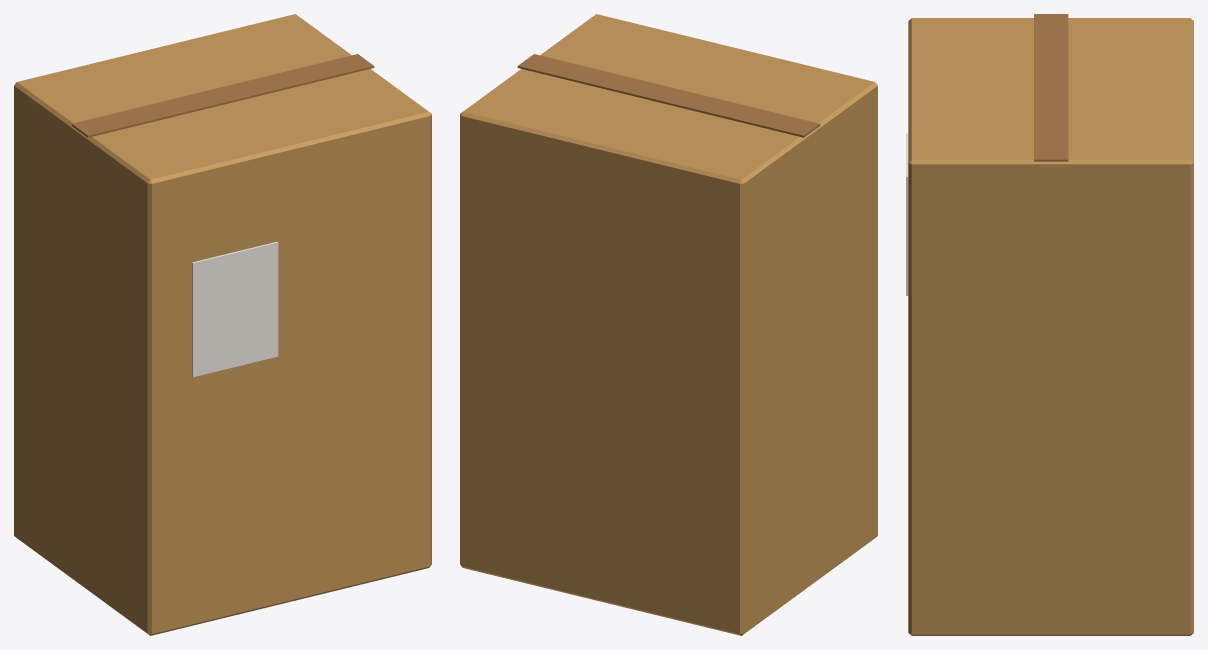
The model's file is cardboard_box_tall.fbx.
The picture shows the model from 3 angles, left to right: view 1: azimuth 30°, elevation 25°; view 2: azimuth 150°, elevation 25°; view 3: azimuth 270°, elevation 25°; orthographic projection. The views are drawn at different scales.
Parts seen in each view (by area): view 1: cardboard_box_tall; view 2: cardboard_box_tall; view 3: cardboard_box_tall.
Boxes of the visible parts, x1,y1,x2,y2 form: cardboard_box_tall: (14,14,431,635); cardboard_box_tall: (460,14,877,635); cardboard_box_tall: (906,14,1193,635).
Size of the model in its own units: 0.604 by 0.924 by 0.504.
